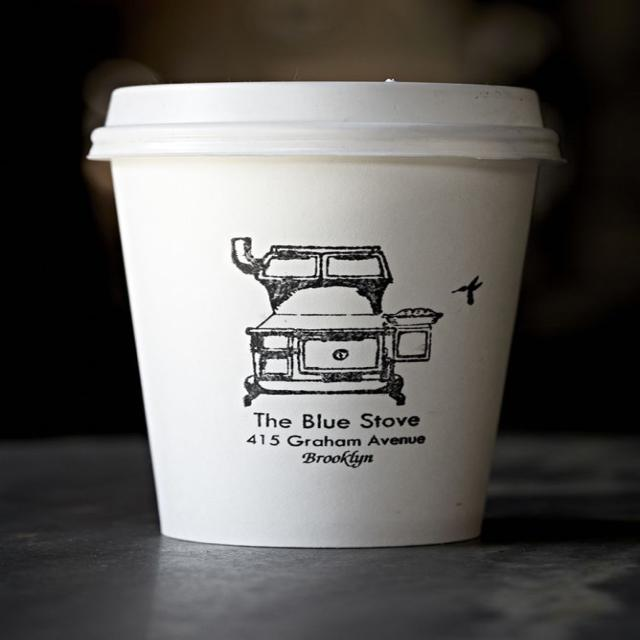paper cup: (91, 81, 565, 548)
